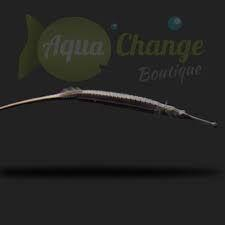Long-Snouted Pipefish: (0, 82, 221, 136)
